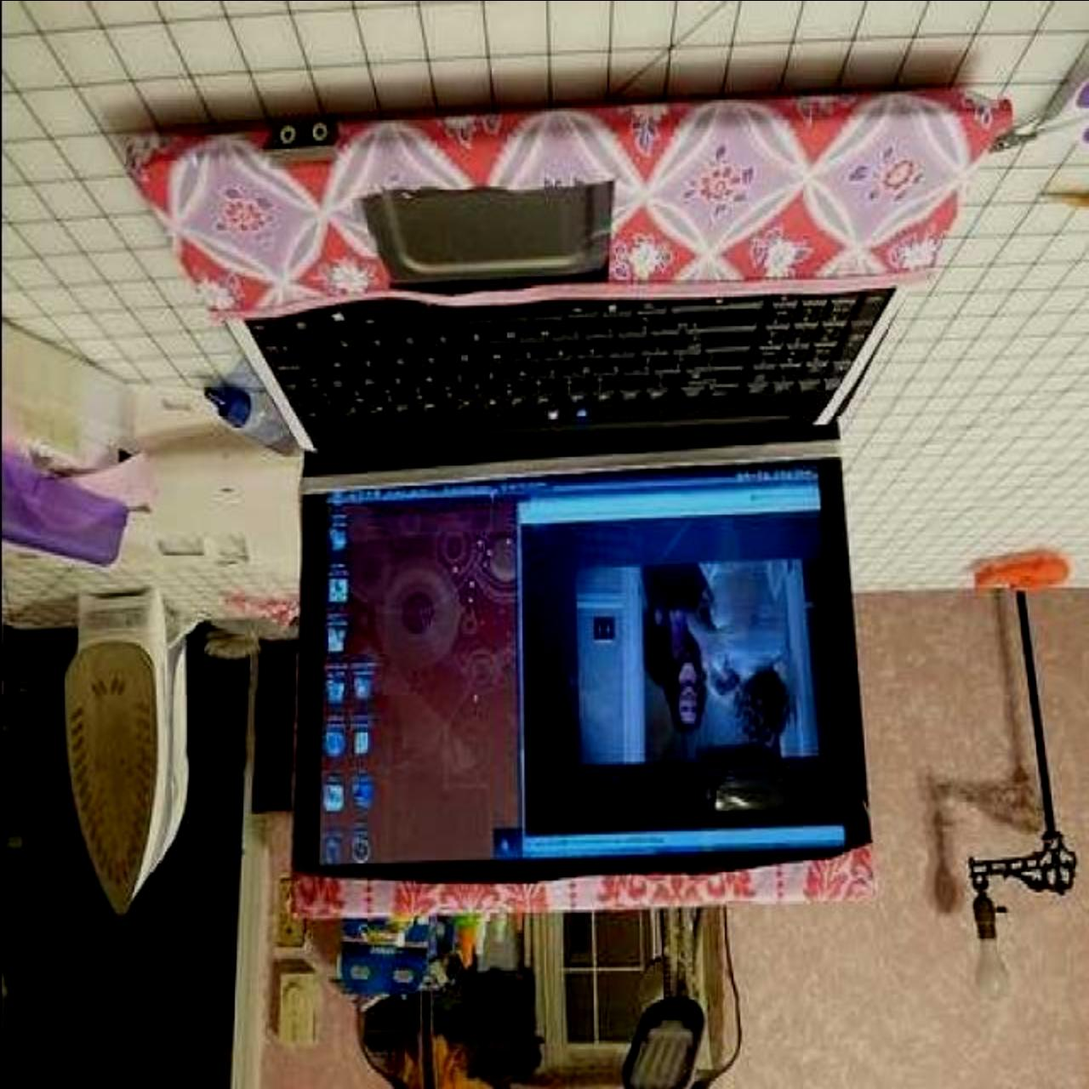laptop: (238, 121, 905, 927)
